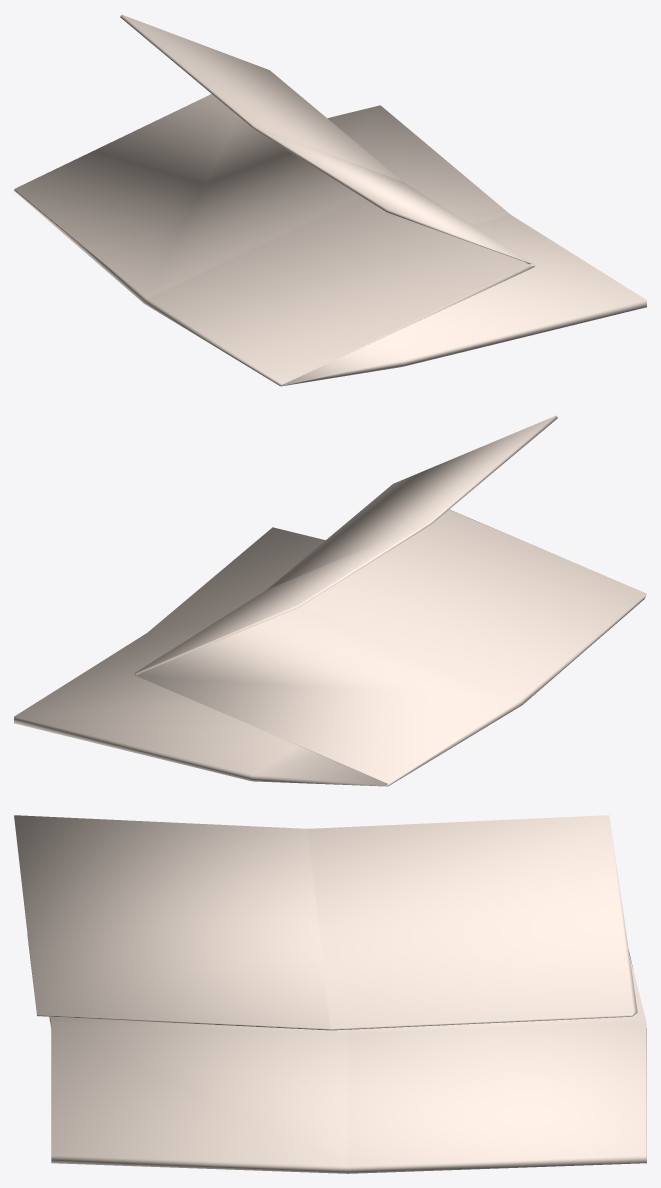
The model's file is mother_letter.glb.
3 views of the same model, one above another, from view 1: azimuth 30°, elevation 25°; view 2: azimuth 150°, elevation 25°; view 3: azimuth 270°, elevation 25° (orthographic). The views are drawn at different scales.
Visible parts, largest first — view 1: Plane; view 2: Plane; view 3: Plane.
Boxes of the visible parts, x1,y1,x2,y2 form: Plane: [14, 14, 646, 386]; Plane: [14, 415, 646, 786]; Plane: [14, 815, 646, 1173].
Size of the model in its own units: 0.1719 by 0.0813 by 0.222.
1 material, 1 textured.
